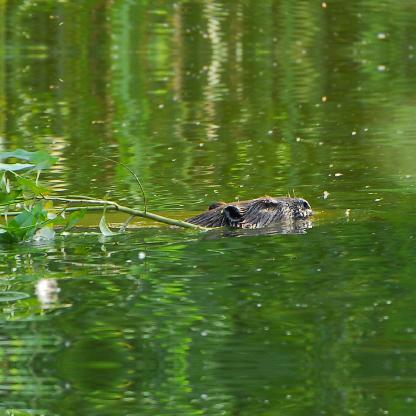Bird: (172, 192, 320, 233)
